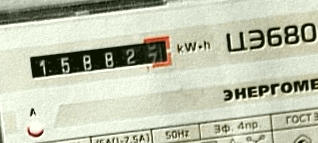1: (36, 57, 48, 76)
2: (124, 46, 136, 65)
5: (58, 55, 71, 73)
7: (146, 51, 158, 63)
8: (79, 52, 93, 70), (102, 49, 115, 68)
screen: (20, 31, 178, 87)
